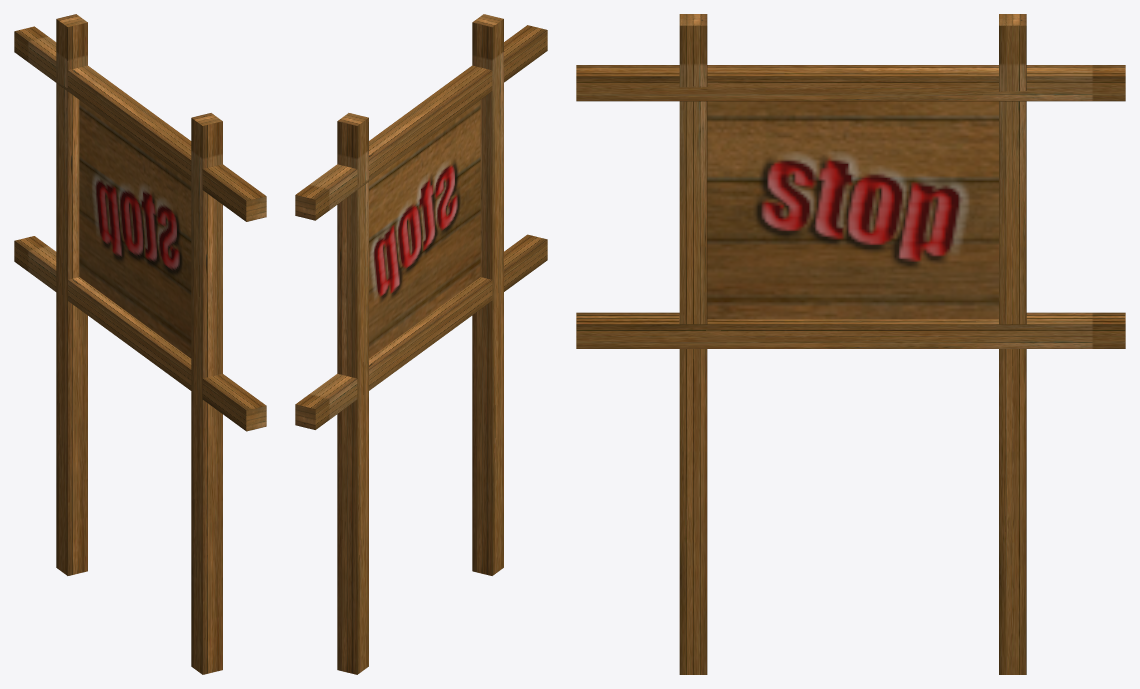
File: 5S_14mujiaStop.FBX
The picture shows the model from 3 angles, left to right: view 1: azimuth 30°, elevation 25°; view 2: azimuth 150°, elevation 25°; view 3: azimuth 270°, elevation 25°; orthographic projection. The views are drawn at different scales.
Parts seen in each view (by area): view 1: 5S_29Stop; view 2: 5S_29Stop; view 3: 5S_29Stop.
Boxes of the visible parts, bbox=[...] form: 5S_29Stop: bbox=[14, 14, 266, 674]; 5S_29Stop: bbox=[295, 14, 547, 674]; 5S_29Stop: bbox=[576, 14, 1125, 674].
Size of the model in its own units: 0.15 by 3.93 by 3.01.
2 materials, 2 textured.
